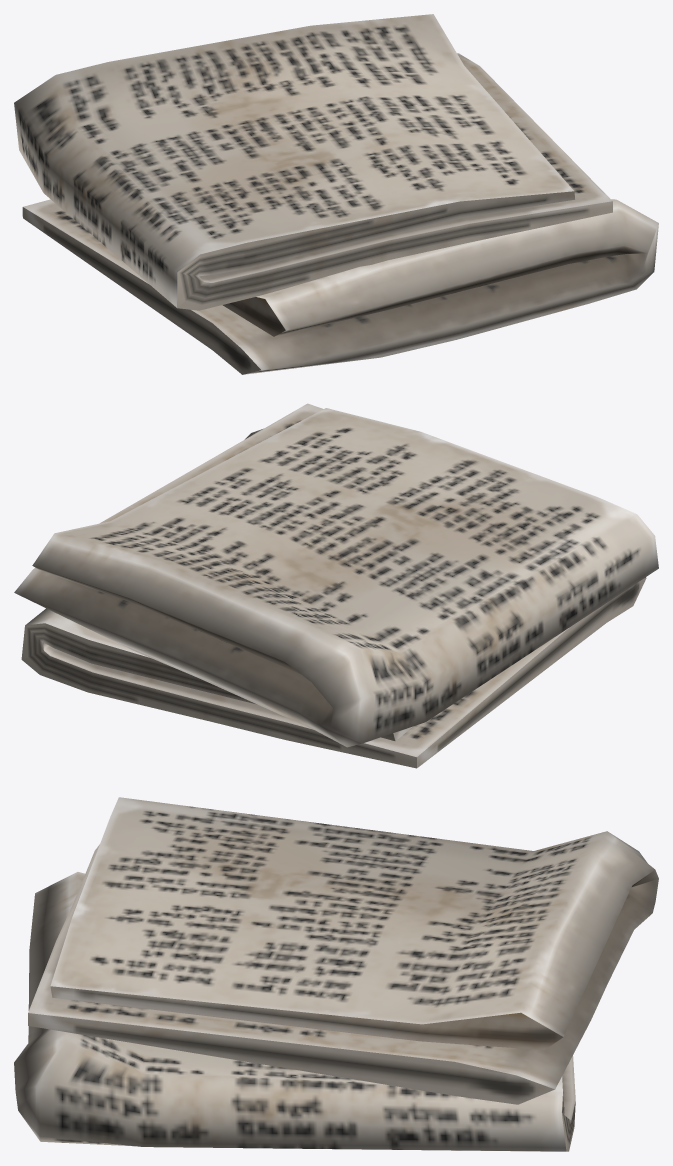
Rendered from newspaper_C.fbx.
The picture shows the model from 3 angles, top to bottom: view 1: azimuth 30°, elevation 25°; view 2: azimuth 150°, elevation 25°; view 3: azimuth 270°, elevation 25°; orthographic projection. The views are drawn at different scales.
Parts seen in each view (by area): view 1: newspaper_C; view 2: newspaper_C; view 3: newspaper_C.
Boxes of the visible parts, bbox=[...] form: newspaper_C: bbox=[14, 14, 658, 374]; newspaper_C: bbox=[14, 403, 658, 768]; newspaper_C: bbox=[14, 797, 658, 1151].
Size of the model in its own units: 36.21 by 10.53 by 38.87.
